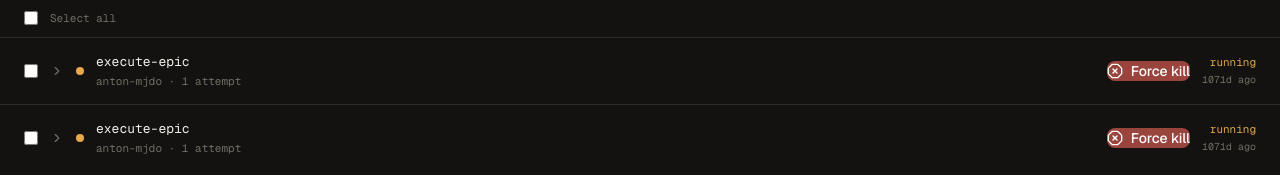
it: Bulk kill bar › keeps the per-row kill working alongside the bulk bar
The width and height of the screenshot is (1280, 175).
Click the checkbox named "Select execute-epic job j-a for bulk kill" at (31, 70), box 24,64 -> 38,78
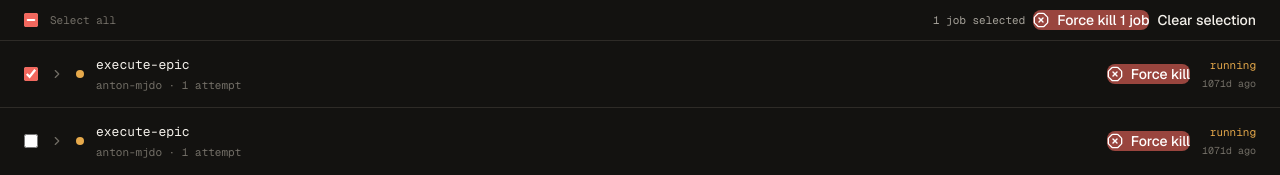
Click the 2nd button "Force kill" at (1148, 141), box 1107,131 -> 1190,151
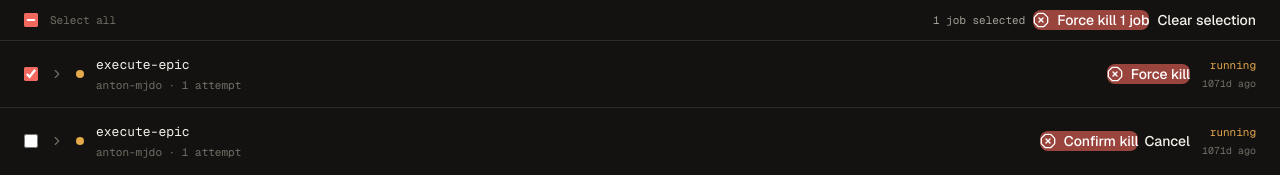
Click the button "Confirm kill" at (1089, 141), box 1040,131 -> 1138,151
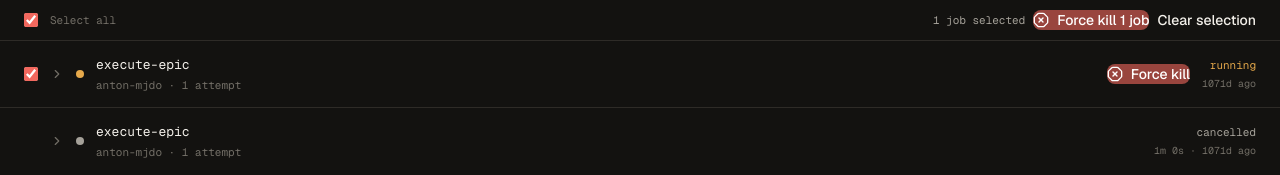
Expected: the text "1 job selected" is shown, 933,12 -> 1025,28
Expected: the text "cancelled" is shown, 1197,124 -> 1256,141
